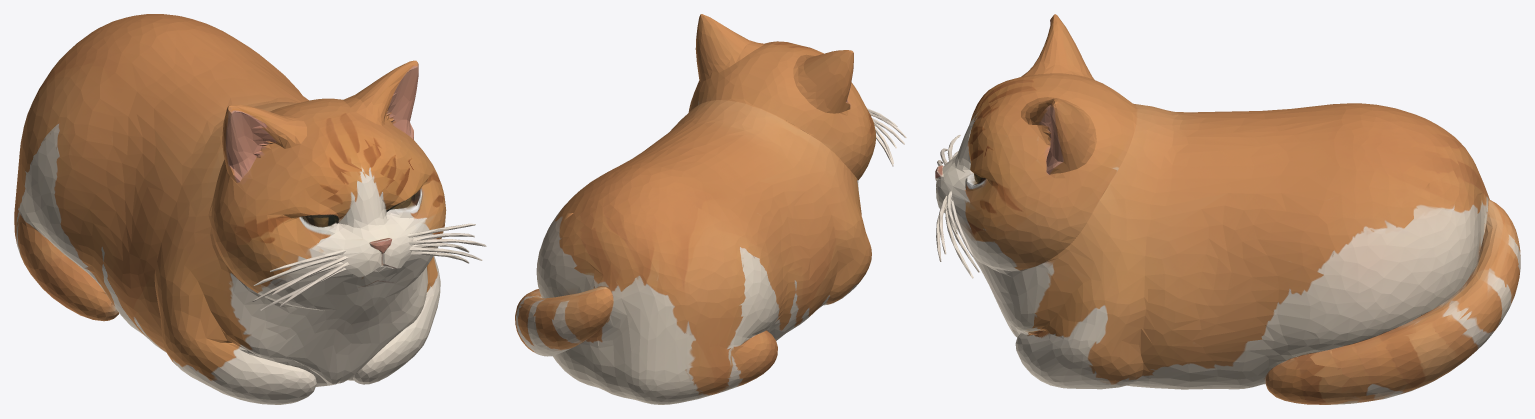
Rendered from cat_loaf.glb.
3 views of the same model, side by side, from view 1: azimuth 30°, elevation 25°; view 2: azimuth 150°, elevation 25°; view 3: azimuth 270°, elevation 25° (orthographic). The views are drawn at different scales.
Visible parts, largest first — view 1: cat_loaf; view 2: cat_loaf; view 3: cat_loaf.
Part boxes in pixels (bbox=[...]): cat_loaf: bbox=[14, 14, 486, 404]; cat_loaf: bbox=[515, 14, 906, 404]; cat_loaf: bbox=[935, 14, 1520, 404].
Size of the model in its own units: 0.2368 by 0.25 by 0.4427.
1 material, 1 textured.
